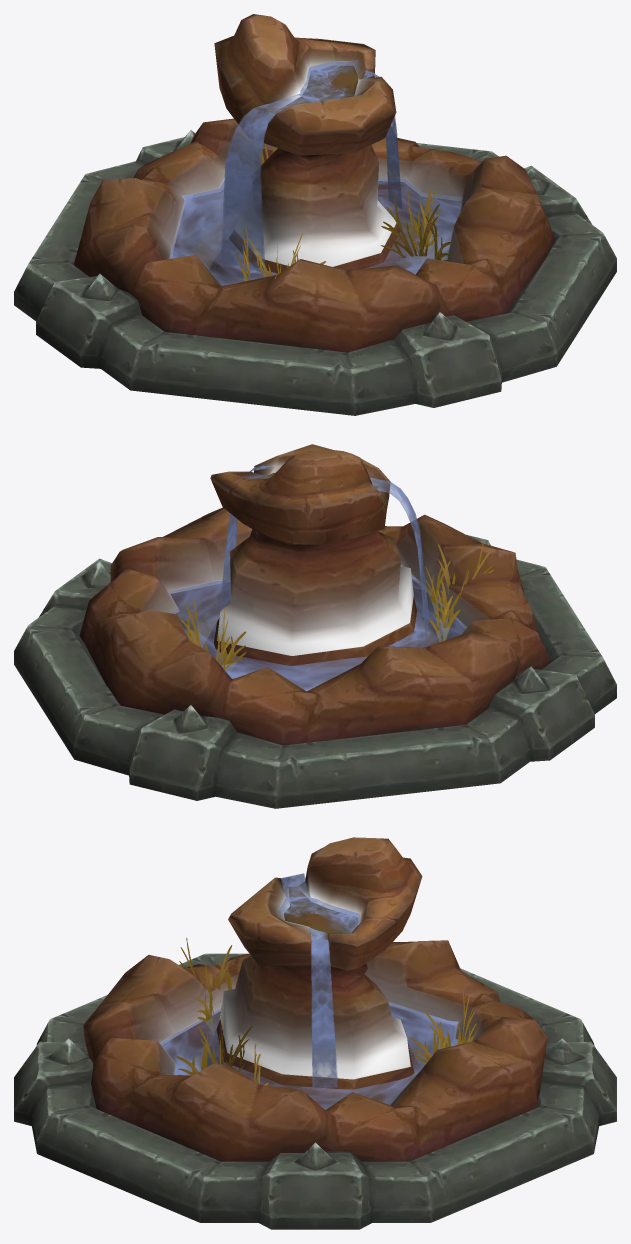
3 renders of one model, top to bottom at view 1: azimuth 30°, elevation 25°; view 2: azimuth 150°, elevation 25°; view 3: azimuth 270°, elevation 25°, orthographic.
Size of the model in its own units: 13.02 by 6.14 by 13.35.
5 materials, 5 textured.
